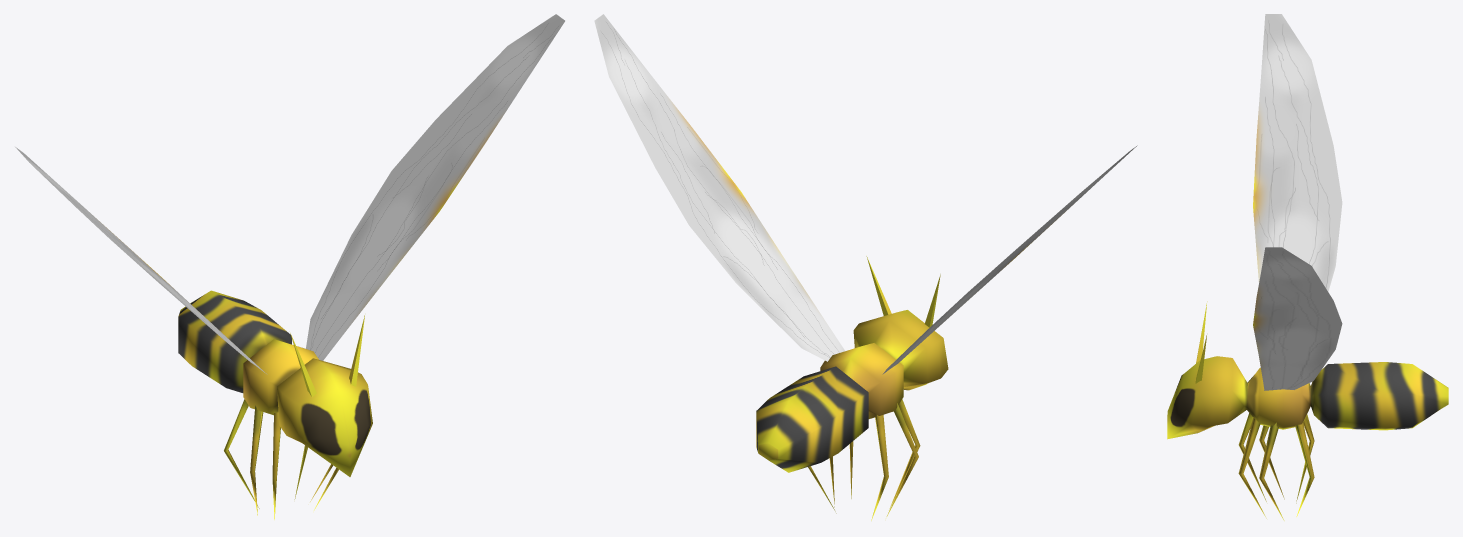
Rendered from Bee.fbx.
The picture shows the model from 3 angles, left to right: view 1: azimuth 30°, elevation 25°; view 2: azimuth 150°, elevation 25°; view 3: azimuth 270°, elevation 25°; orthographic projection. The views are drawn at different scales.
Parts seen in each view (by area): view 1: Bee; view 2: Bee; view 3: Bee.
Boxes of the visible parts, x1=… form: Bee: x1=15, y1=14, x2=564, y2=519; Bee: x1=594, y1=14, x2=1137, y2=520; Bee: x1=1167, y1=14, x2=1448, y2=520.
Size of the model in its own units: 1558 by 1189 by 795.
1 material, 1 textured.
